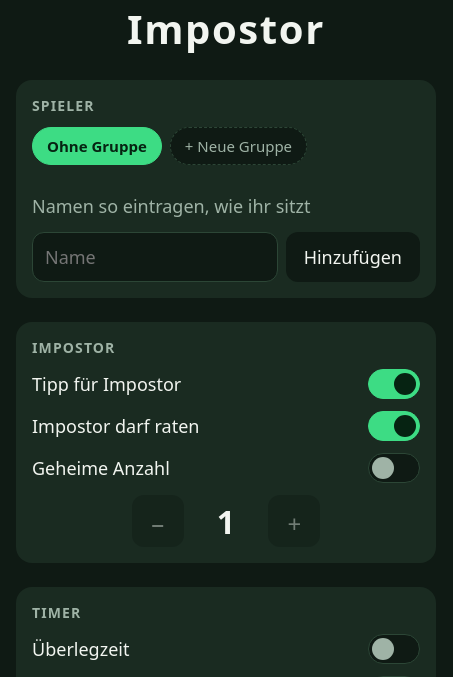
it: SetupScreen › fügt Namen per Enter und Button hinzu und entfernt sie
Type "Anna" into the field labelled "Name" at [155, 257], box [32, 232, 278, 282]
Then press Enter
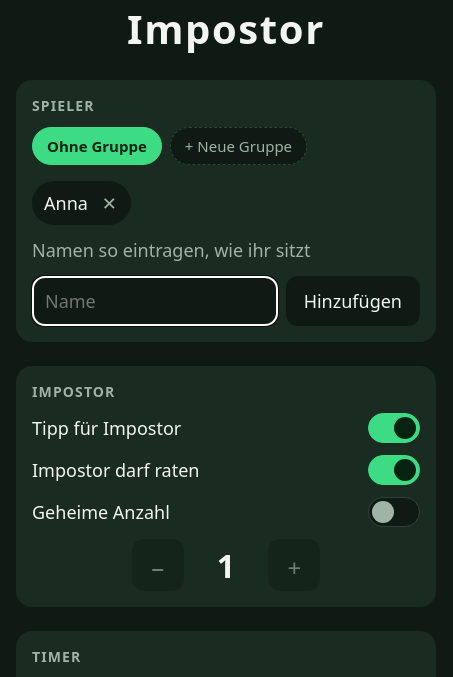
Type "Ben" into the field labelled "Name" at [155, 301], box [32, 276, 278, 326]
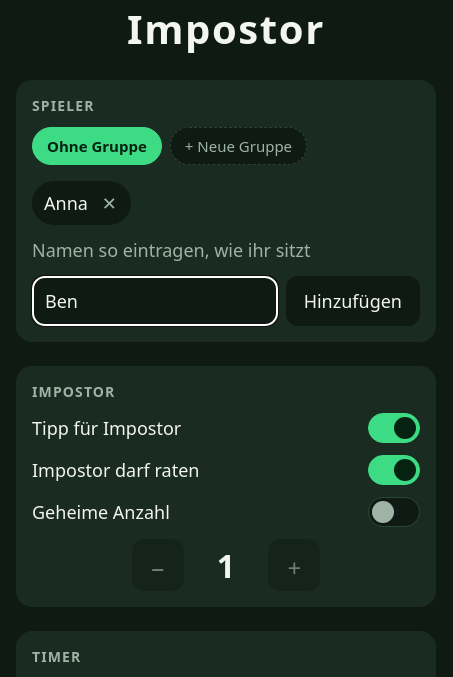
Click the button "Hinzufügen" at [353, 301], box [286, 276, 420, 326]
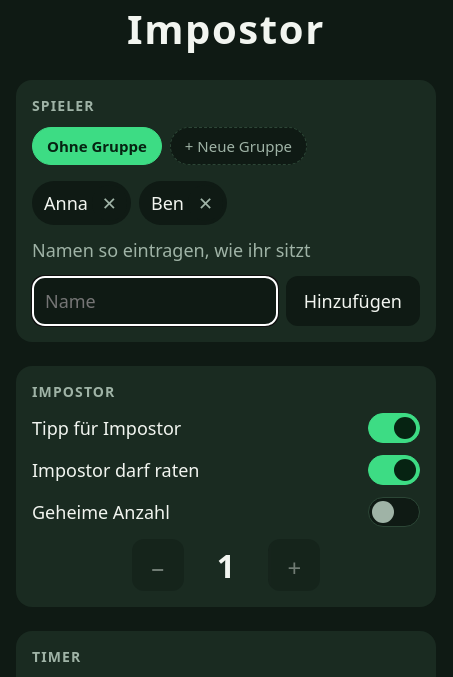
Expected: the text "Anna" is shown, [44, 191, 88, 215]
Expected: the text "Ben" is shown, [151, 191, 184, 215]
Click the button named "Anna entfernen" at [109, 203], box [92, 185, 127, 221]
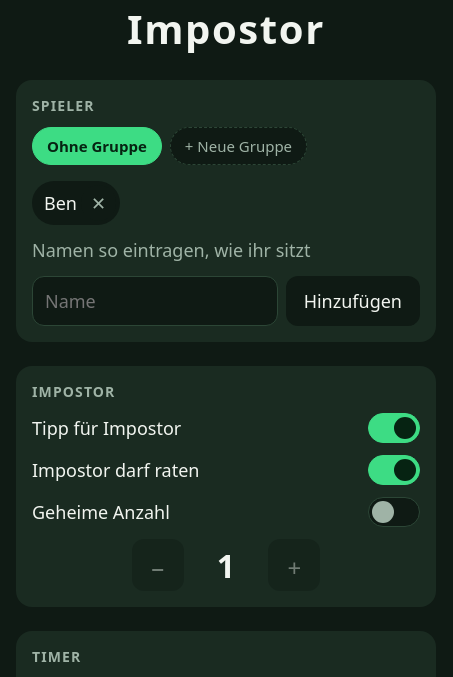
Expected: the text "Anna" is gone
